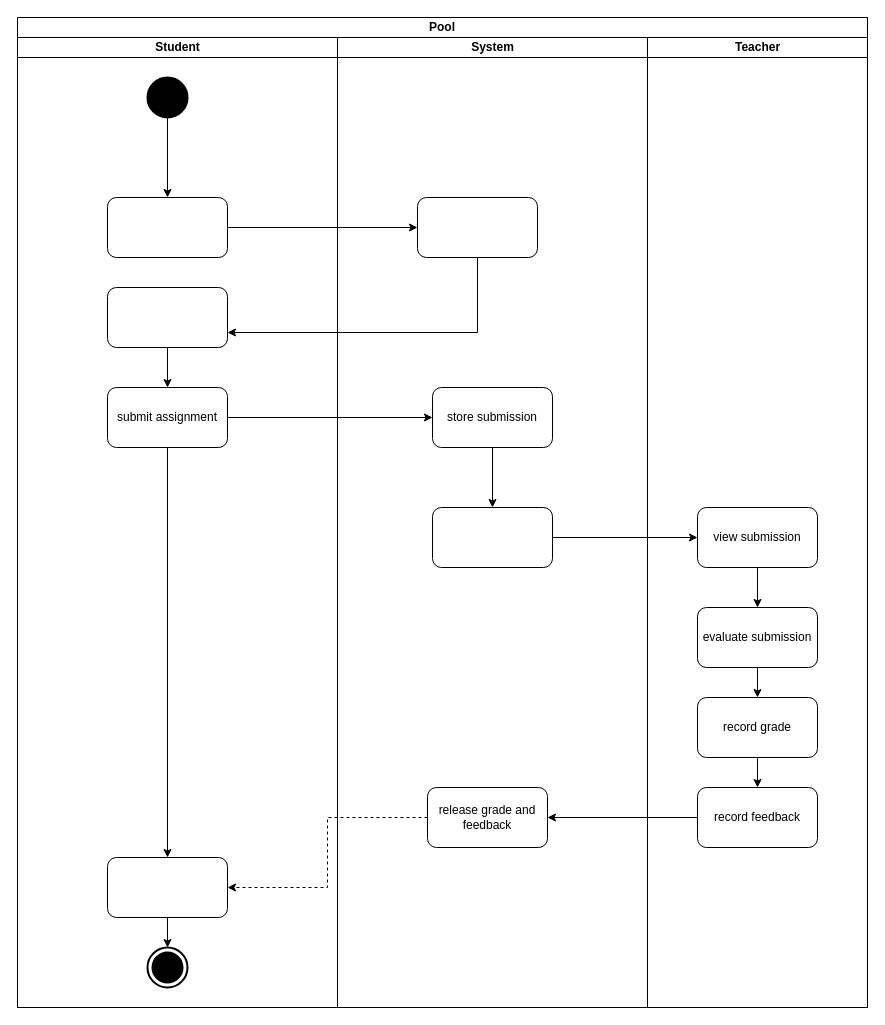
This 885x1025 diagram has some shape labels left out. Here are the shapes that lost their labels. From the top down, the centre of each, then its label:
At [167,227]: "view assignment".
At [477,227]: "display assignment".
At [167,317]: "read assignment".
At [492,537]: "notify teacher".
At [167,887]: "view grade and feedback".
